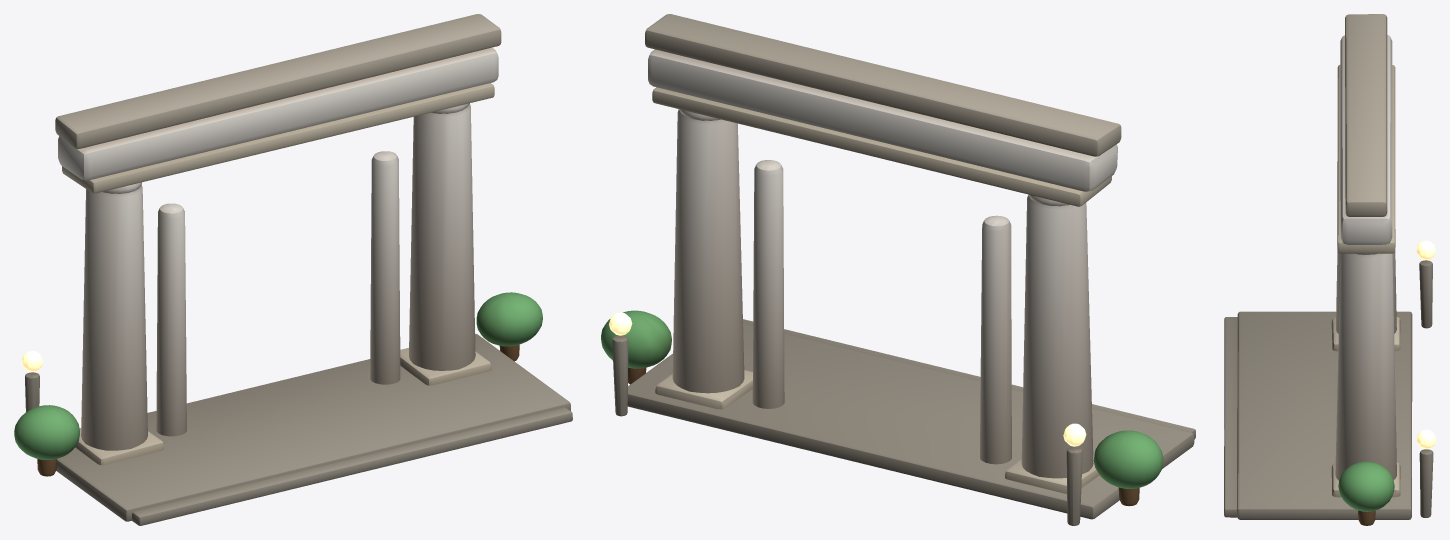
3 renders of one model, left to right at view 1: azimuth 30°, elevation 25°; view 2: azimuth 150°, elevation 25°; view 3: azimuth 270°, elevation 25°, orthographic. The views are drawn at different scales.
Parts seen in each view (by area): view 1: gate_8fd7bf2b; view 2: gate_8fd7bf2b; view 3: gate_8fd7bf2b.
Boxes of the visible parts, x1,y1,x2,y2 form: gate_8fd7bf2b: (14,14,572,525); gate_8fd7bf2b: (601,14,1195,525); gate_8fd7bf2b: (1224,14,1435,525).
Bounding box in the file's own units: 6.59 × 4.19 × 2.55.
